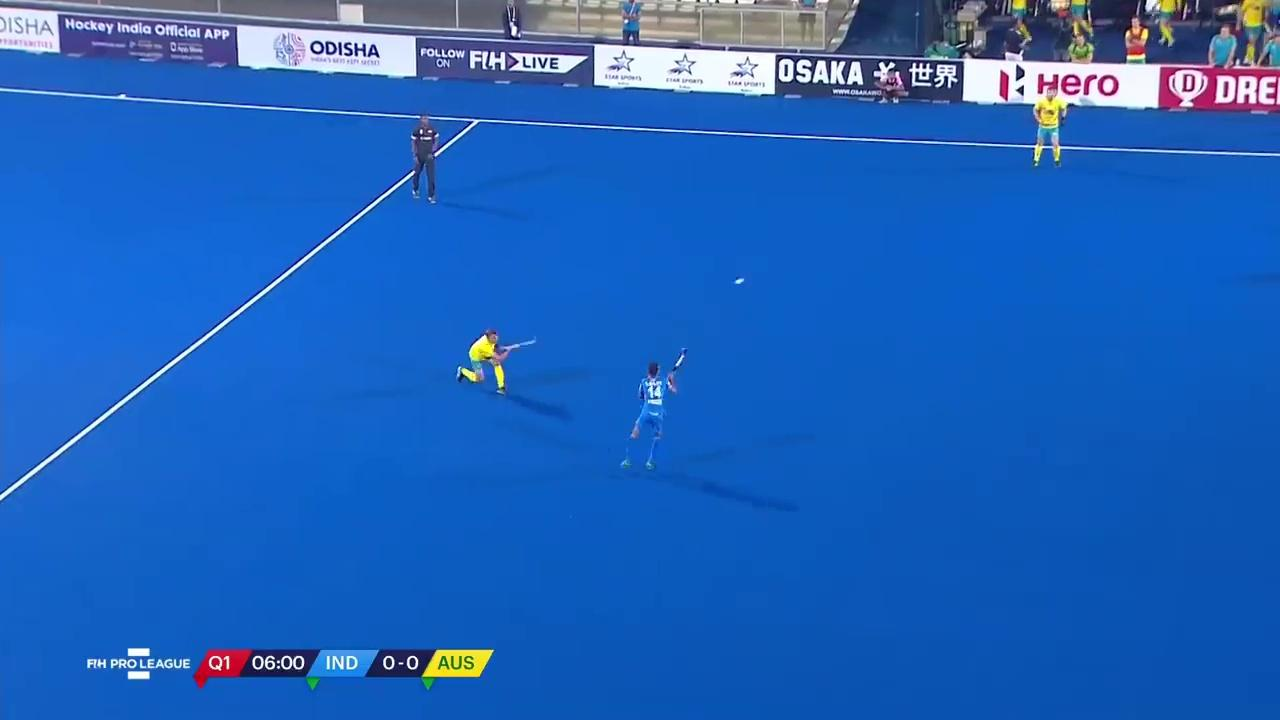ball: (722, 272, 753, 288)
